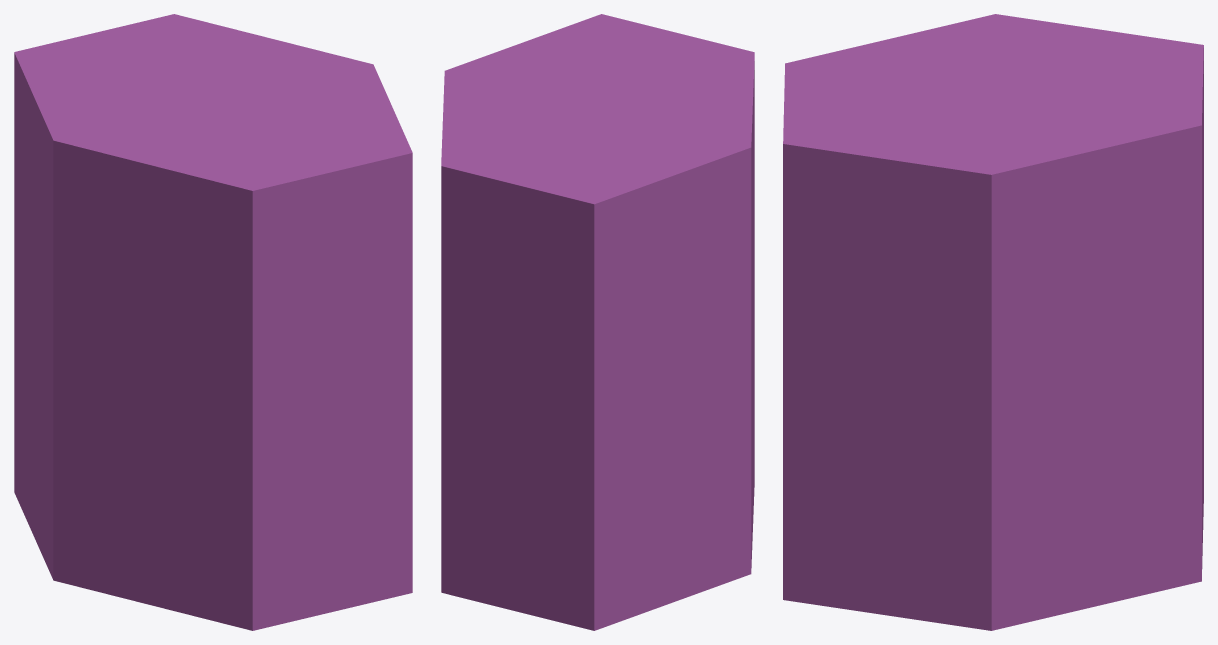
Rendered from Rock4.fbx.
The picture shows the model from 3 angles, left to right: view 1: azimuth 30°, elevation 25°; view 2: azimuth 150°, elevation 25°; view 3: azimuth 270°, elevation 25°; orthographic projection. The views are drawn at different scales.
Visible parts, largest first — view 1: pCylinder101; view 2: pCylinder101; view 3: pCylinder101.
Part boxes in pixels (x1,y1,x2,y2): pCylinder101: (14, 14, 412, 630); pCylinder101: (441, 14, 754, 630); pCylinder101: (783, 14, 1203, 630).
Bounding box in the file's own units: 3.34 × 4.42 × 3.7.
